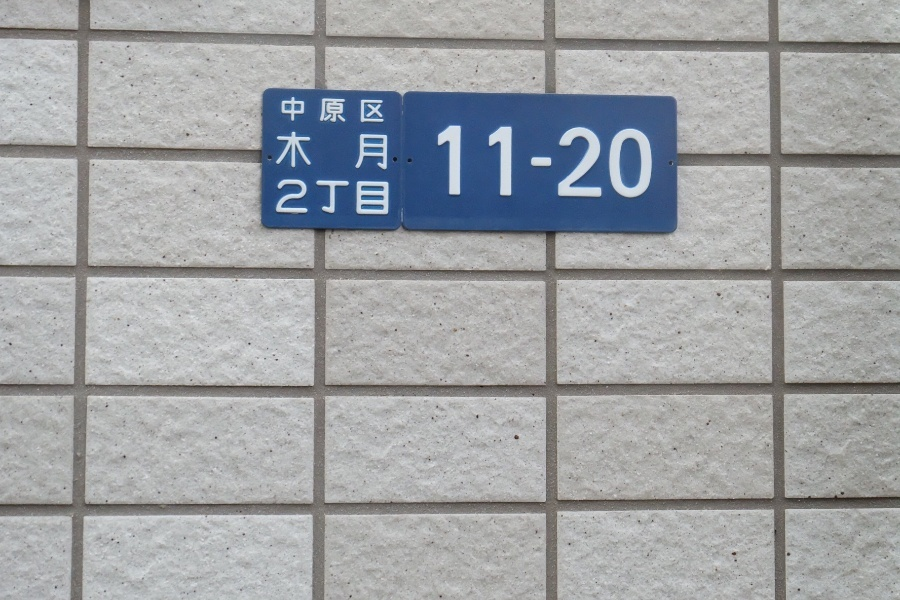text: (449, 125, 464, 199), (465, 125, 480, 199), (481, 125, 496, 199), (497, 125, 512, 199), (513, 125, 528, 199), (529, 125, 544, 199), (545, 125, 560, 199), (561, 125, 576, 199), (577, 125, 592, 199), (593, 125, 608, 199), (609, 125, 624, 199), (625, 125, 640, 199), (641, 125, 652, 199), (438, 125, 448, 199), (289, 131, 304, 171), (305, 131, 320, 171), (321, 131, 336, 171), (337, 131, 352, 171), (353, 131, 368, 171), (369, 131, 384, 171), (289, 179, 304, 216), (305, 179, 320, 216), (321, 179, 336, 216), (337, 179, 352, 216), (353, 179, 368, 216), (369, 179, 384, 216), (277, 131, 288, 171), (289, 97, 304, 124), (305, 97, 320, 124), (321, 97, 336, 124), (337, 97, 352, 124), (353, 97, 368, 124), (369, 97, 384, 124), (278, 179, 288, 216), (385, 179, 390, 216), (282, 97, 288, 124), (385, 131, 388, 171)
